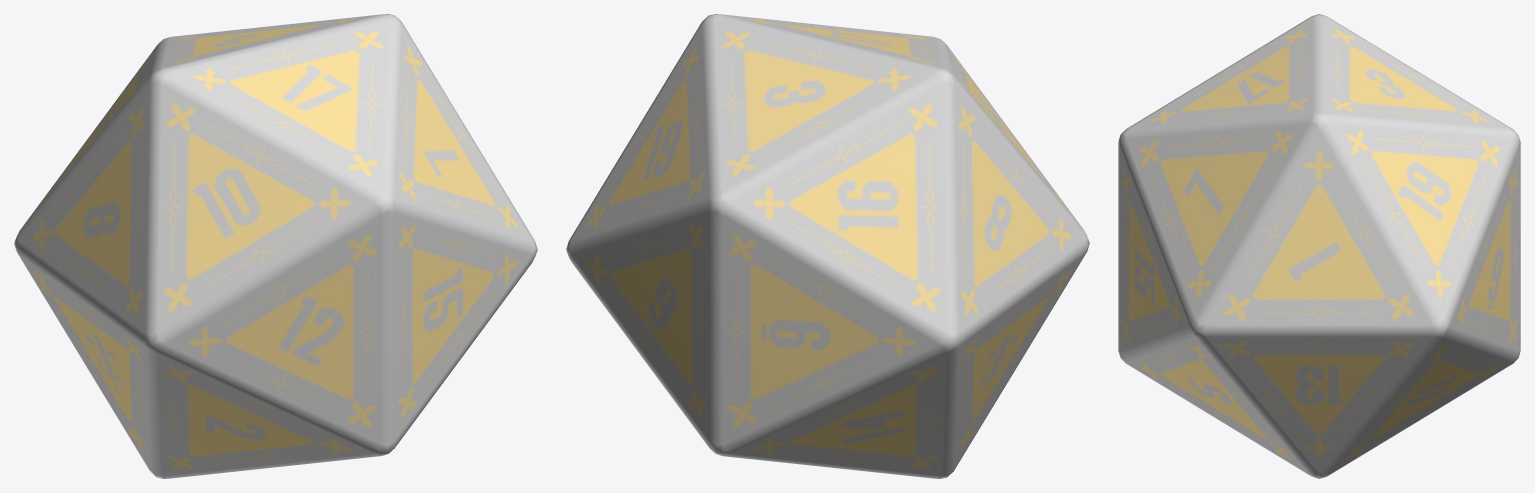
Rendered from dicemodel_d20.gltf.
3 views of the same model, side by side, from view 1: azimuth 30°, elevation 25°; view 2: azimuth 150°, elevation 25°; view 3: azimuth 270°, elevation 25° (orthographic). The views are drawn at different scales.
Parts seen in each view (by area): view 1: dicemodel_d20; view 2: dicemodel_d20; view 3: dicemodel_d20.
Part boxes in pixels (x1,y1,x2,y2): dicemodel_d20: (14, 14, 537, 478); dicemodel_d20: (566, 14, 1089, 478); dicemodel_d20: (1118, 14, 1520, 478).
Size of the model in its own units: 167 by 167 by 167.
Materials: 1 (1 with a texture image).
